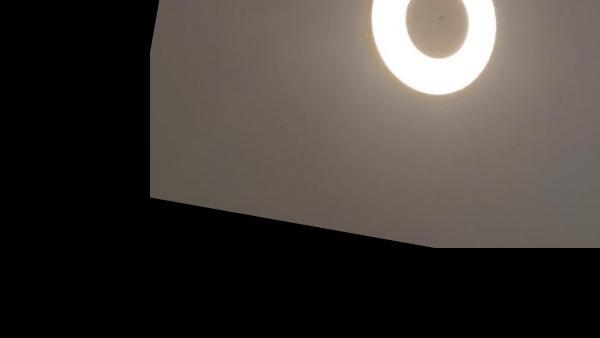light_on: (343, 0, 519, 114)
